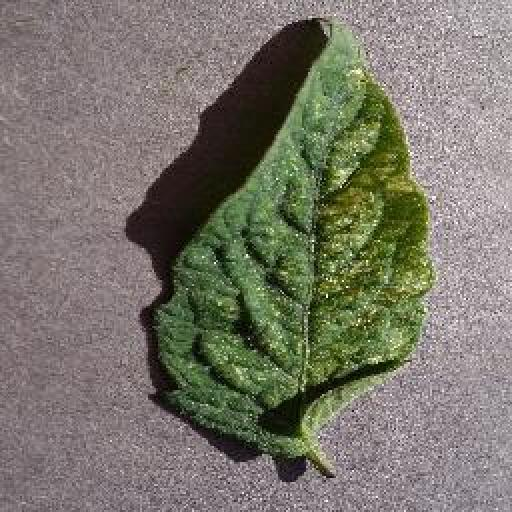disease_tomato: (155, 19, 436, 460)
